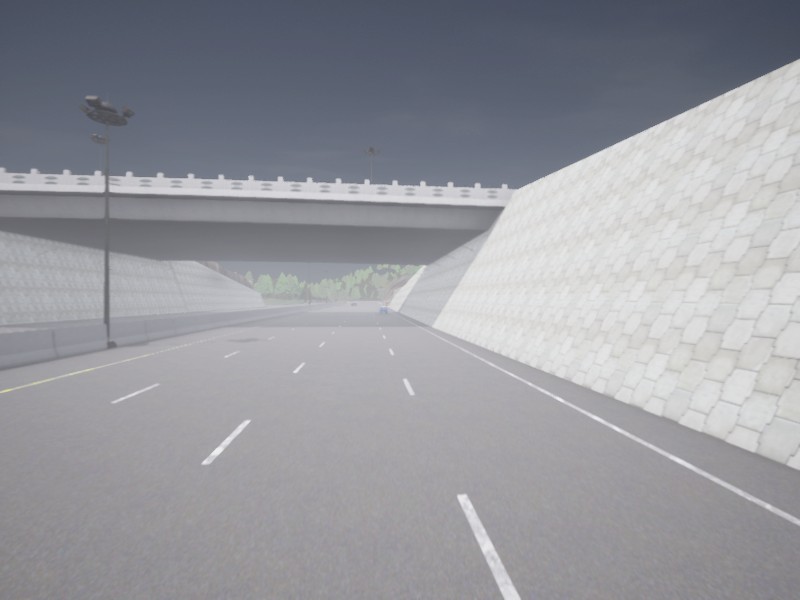vehicle: (379, 306, 386, 313), (352, 302, 356, 305)
